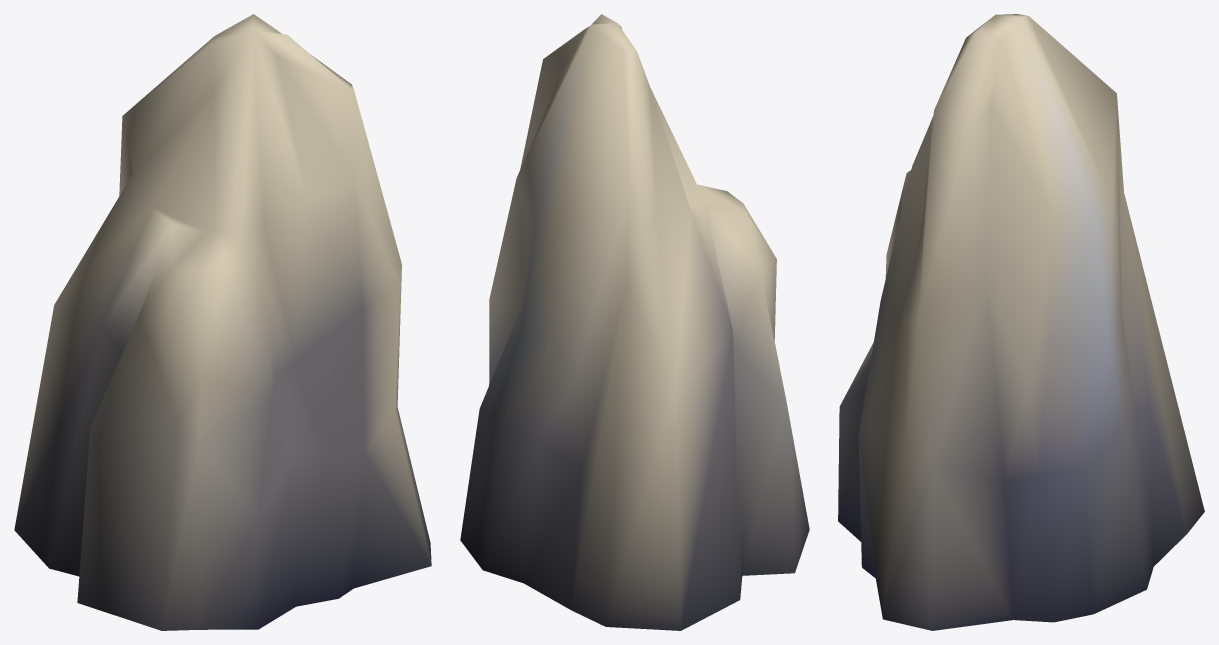
The model's file is GrayRock.gltf.
3 views of the same model, side by side, from view 1: azimuth 30°, elevation 25°; view 2: azimuth 150°, elevation 25°; view 3: azimuth 270°, elevation 25° (orthographic). The views are drawn at different scales.
Visible parts, largest first — view 1: GrayRockMesh; view 2: GrayRockMesh; view 3: GrayRockMesh.
Boxes of the visible parts, x1,y1,x2,y2 form: GrayRockMesh: (14, 14, 431, 630); GrayRockMesh: (460, 14, 809, 630); GrayRockMesh: (838, 14, 1204, 630).
Size of the model in its own units: 6.37 by 9.87 by 6.01.
